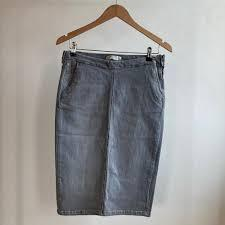skirt: (53, 46, 164, 216)
